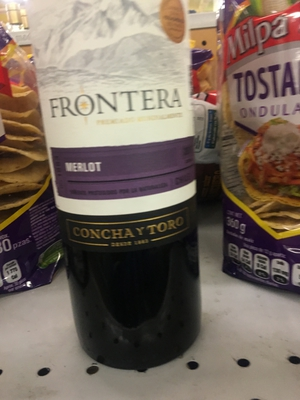frontera merlot: (29, 5, 225, 352)
